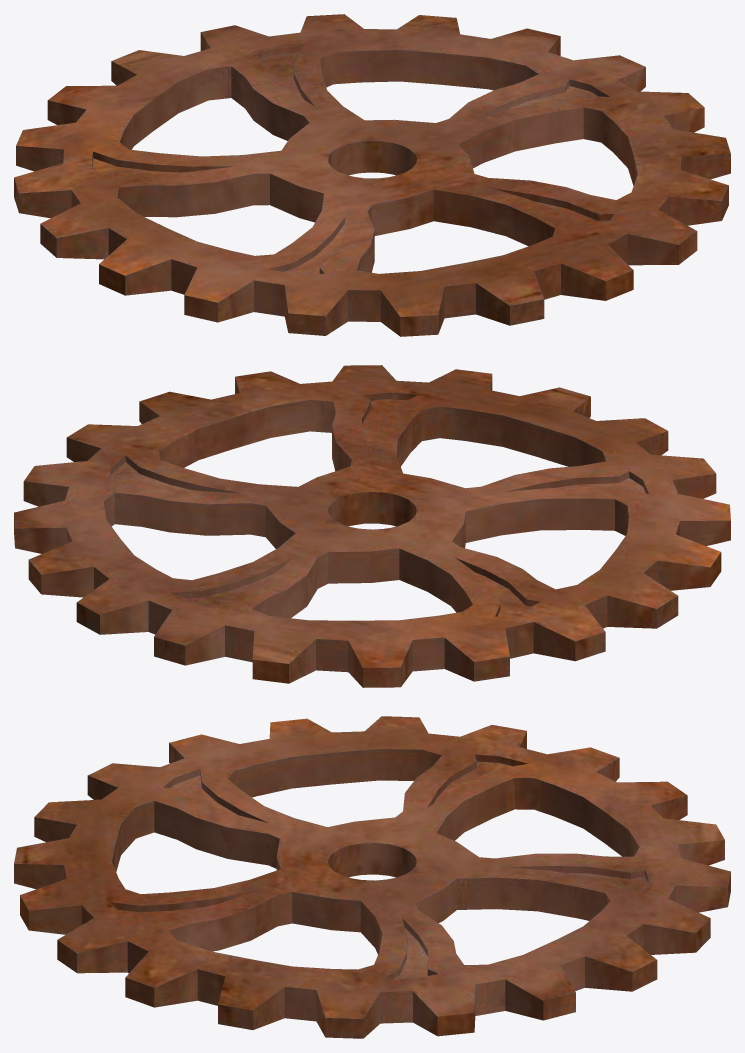
The model's file is steampunk_gear_14.glb.
3 views of the same model, one above another, from view 1: azimuth 30°, elevation 25°; view 2: azimuth 150°, elevation 25°; view 3: azimuth 270°, elevation 25° (orthographic).
Parts seen in each view (by area): view 1: steampunk_gear_14; view 2: steampunk_gear_14; view 3: steampunk_gear_14.
Boxes of the visible parts, box(x1,y1,x2,y2) form: steampunk_gear_14: box(14, 14, 730, 336); steampunk_gear_14: box(14, 365, 730, 687); steampunk_gear_14: box(14, 716, 730, 1038).
Size of what is drawn, in the model's own units: 0.1638 by 0.00794 by 0.1638.
Materials: 1 (1 with a texture image).
